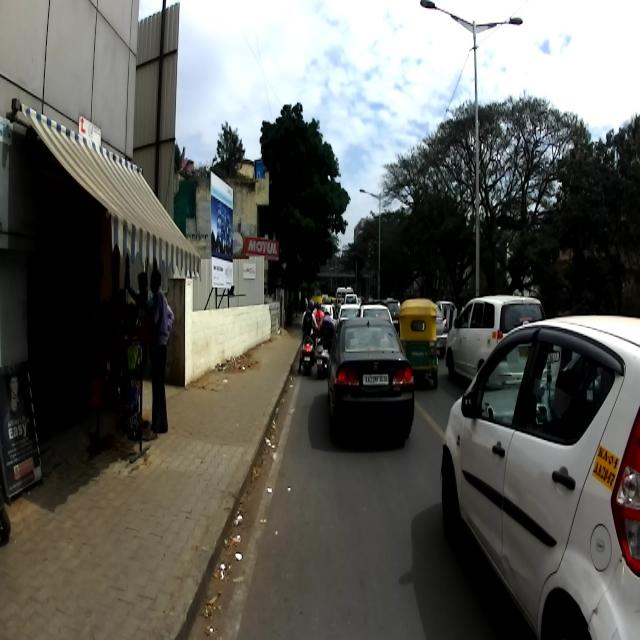car: (438, 312, 638, 638), (322, 316, 414, 446), (445, 294, 545, 383)
scooter: (300, 316, 314, 378)
